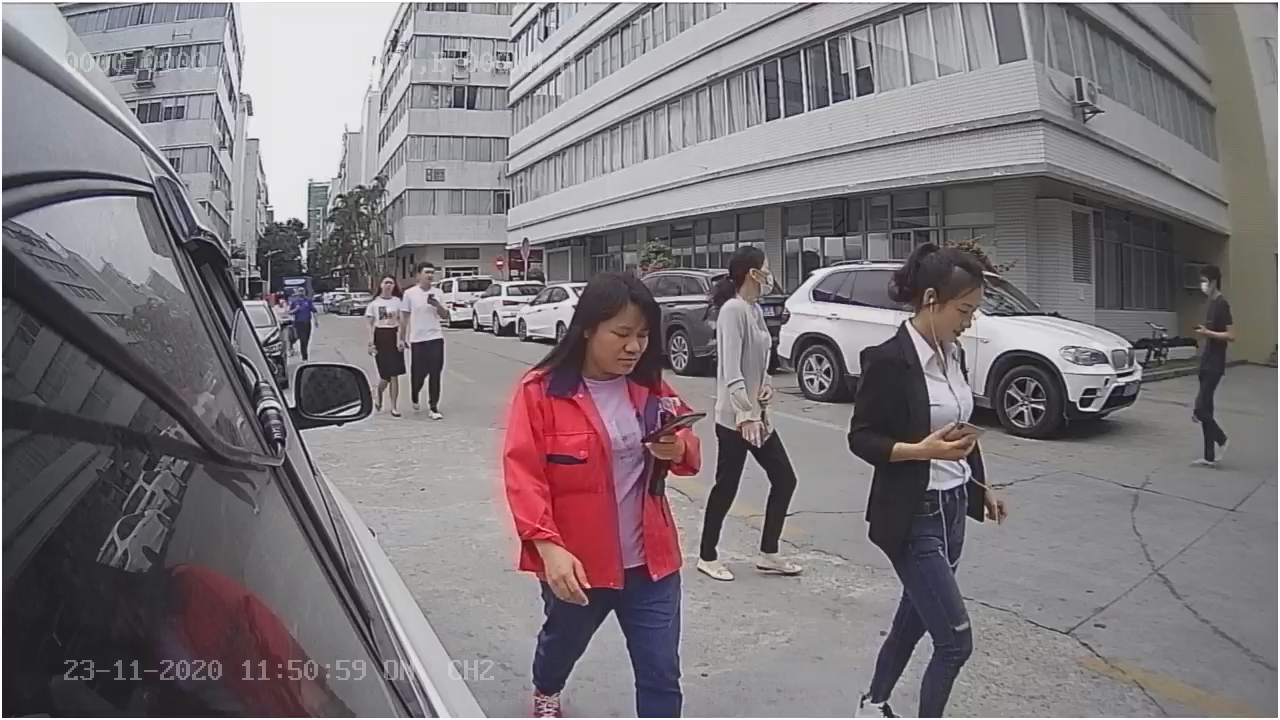person: (849, 243, 1009, 720), (1181, 264, 1251, 475), (361, 260, 408, 346)
